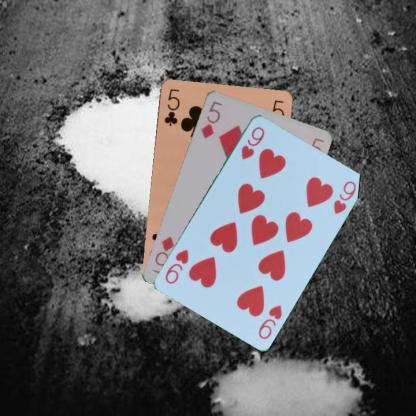5c: (161, 86, 181, 127)
5d: (198, 98, 223, 140)
9h: (256, 302, 283, 340), (238, 124, 266, 160)
